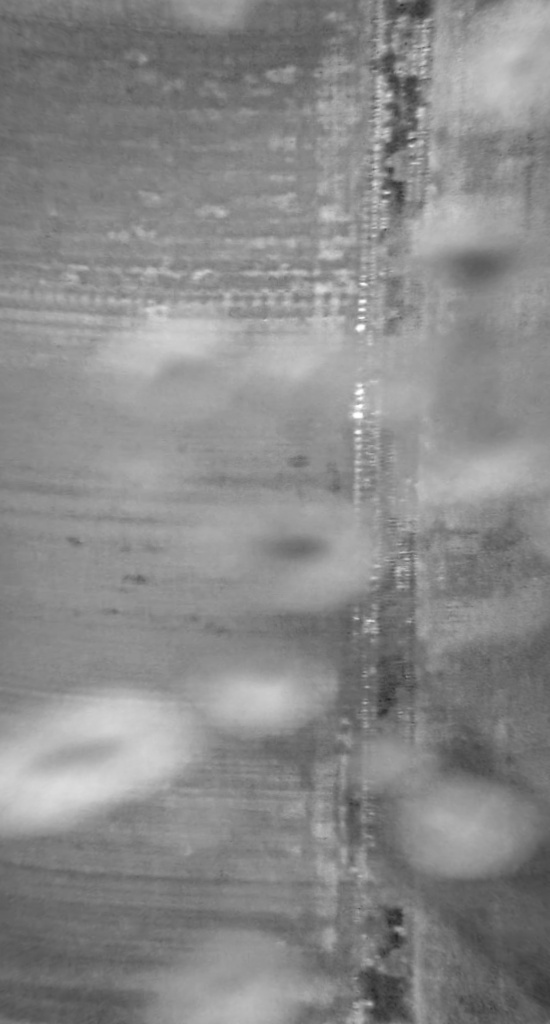splice: (338, 1, 435, 1022)
